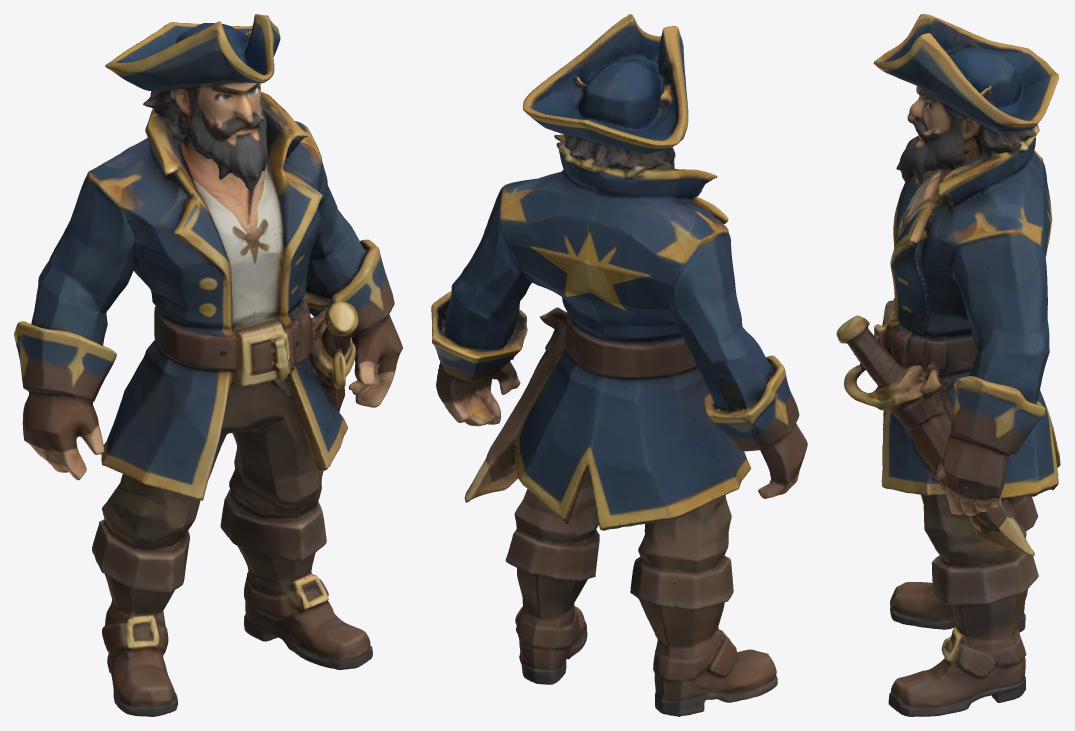
The model's file is crew-test-1blue.glb.
3 views of the same model, side by side, from view 1: azimuth 30°, elevation 25°; view 2: azimuth 150°, elevation 25°; view 3: azimuth 270°, elevation 25° (orthographic). The views are drawn at different scales.
Parts seen in each view (by area): view 1: Mesh_0.003; view 2: Mesh_0.003; view 3: Mesh_0.003.
Part boxes in pixels (left/top/right/bottom): Mesh_0.003: left=14, top=14, right=402, bottom=716; Mesh_0.003: left=431, top=14, right=807, bottom=716; Mesh_0.003: left=836, top=14, right=1060, bottom=716.
Size of the model in its own units: 1.16 by 2 by 0.6392.
1 material, 1 textured.
